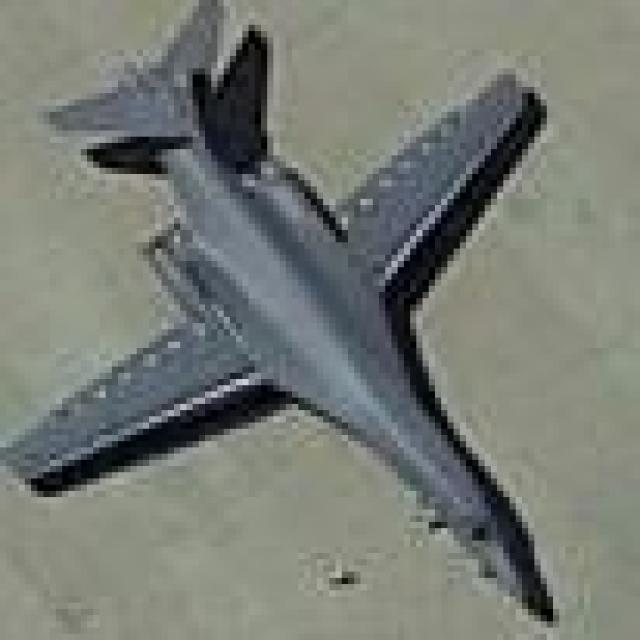B-1_TopDown: (0, 0, 565, 627)
